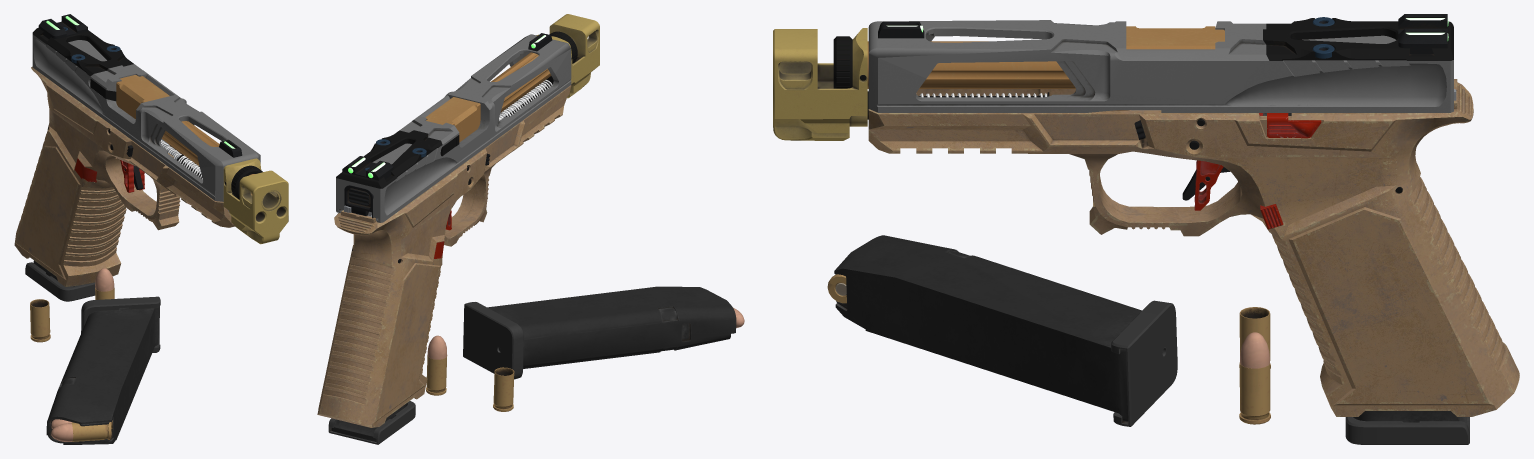
Rendered from Glock.fbx.
3 views of the same model, side by side, from view 1: azimuth 30°, elevation 25°; view 2: azimuth 150°, elevation 25°; view 3: azimuth 270°, elevation 25° (orthographic). The views are drawn at different scales.
Visible parts, largest first — view 1: Frame, Slider, Magazine.001, Compensator_001, Barrel, Magazine_001, Shell.001, Bullet, Trigger, Recoil_Spiring.001, Magazine_Catch; view 2: Frame, Magazine.001, Slider, Compensator_001, Barrel, Bullet, Magazine_001, Shell.001, Backplate, Magazine_002, Recoil_Spiring.001; view 3: Frame, Slider, Magazine.001, Compensator_001, Barrel, Magazine_001, Bullet, Magazine_002, Slide_stop, Shell.001, Trigger.
Part boxes in pixels (x1=…): Frame: x1=14, y1=66, x2=234, y2=286; Slider: x1=32, y1=14, x2=260, y2=211; Magazine.001: x1=46, y1=296, x2=160, y2=444; Compensator_001: x1=223, y1=158, x2=288, y2=244; Barrel: x1=116, y1=75, x2=254, y2=195; Magazine_001: x1=25, y1=262, x2=95, y2=301; Shell.001: x1=30, y1=299, x2=50, y2=342; Bullet: x1=95, y1=268, x2=114, y2=299; Trigger: x1=120, y1=160, x2=144, y2=192; Recoil_Spiring.001: x1=160, y1=140, x2=202, y2=179; Magazine_Catch: x1=74, y1=158, x2=96, y2=182; Frame: x1=317, y1=85, x2=571, y2=427; Magazine.001: x1=463, y1=286, x2=744, y2=379; Slider: x1=336, y1=33, x2=571, y2=222; Compensator_001: x1=536, y1=14, x2=599, y2=98; Barrel: x1=425, y1=52, x2=551, y2=142; Bullet: x1=426, y1=335, x2=447, y2=395; Magazine_001: x1=328, y1=401, x2=415, y2=444; Shell.001: x1=493, y1=367, x2=514, y2=411; Backplate: x1=344, y1=185, x2=373, y2=218; Magazine_002: x1=331, y1=403, x2=406, y2=441; Recoil_Spiring.001: x1=499, y1=80, x2=552, y2=120; Frame: x1=868, y1=79, x2=1519, y2=416; Slider: x1=868, y1=14, x2=1453, y2=112; Magazine.001: x1=827, y1=235, x2=1177, y2=426; Compensator_001: x1=773, y1=28, x2=867, y2=140; Barrel: x1=867, y1=26, x2=1224, y2=88; Magazine_001: x1=1345, y1=417, x2=1469, y2=444; Bullet: x1=1239, y1=332, x2=1270, y2=424; Magazine_002: x1=1288, y1=113, x2=1466, y2=423; Slide_stop: x1=1259, y1=113, x2=1321, y2=138; Shell.001: x1=1239, y1=307, x2=1270, y2=368; Trigger: x1=1194, y1=160, x2=1223, y2=210.
Size of the model in its own units: 12.41 by 14 by 23.47.
